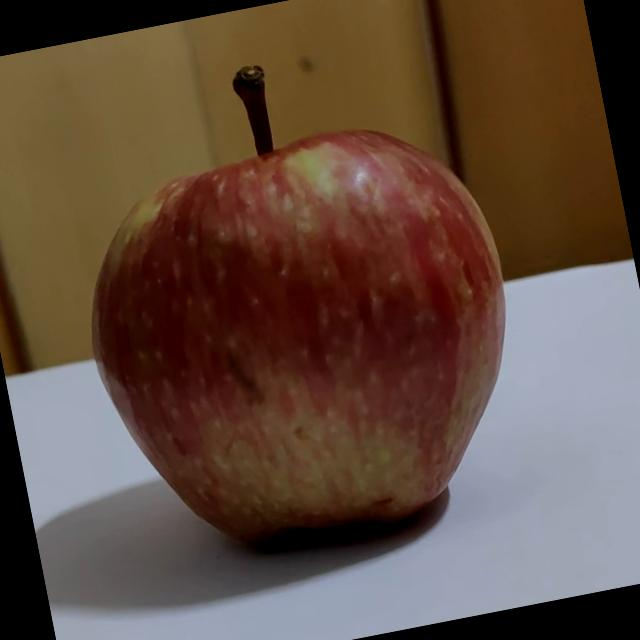apple: (45, 3, 550, 570)
